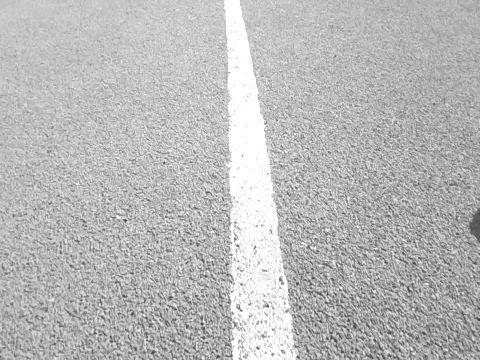Lines: (222, 0, 296, 360)
